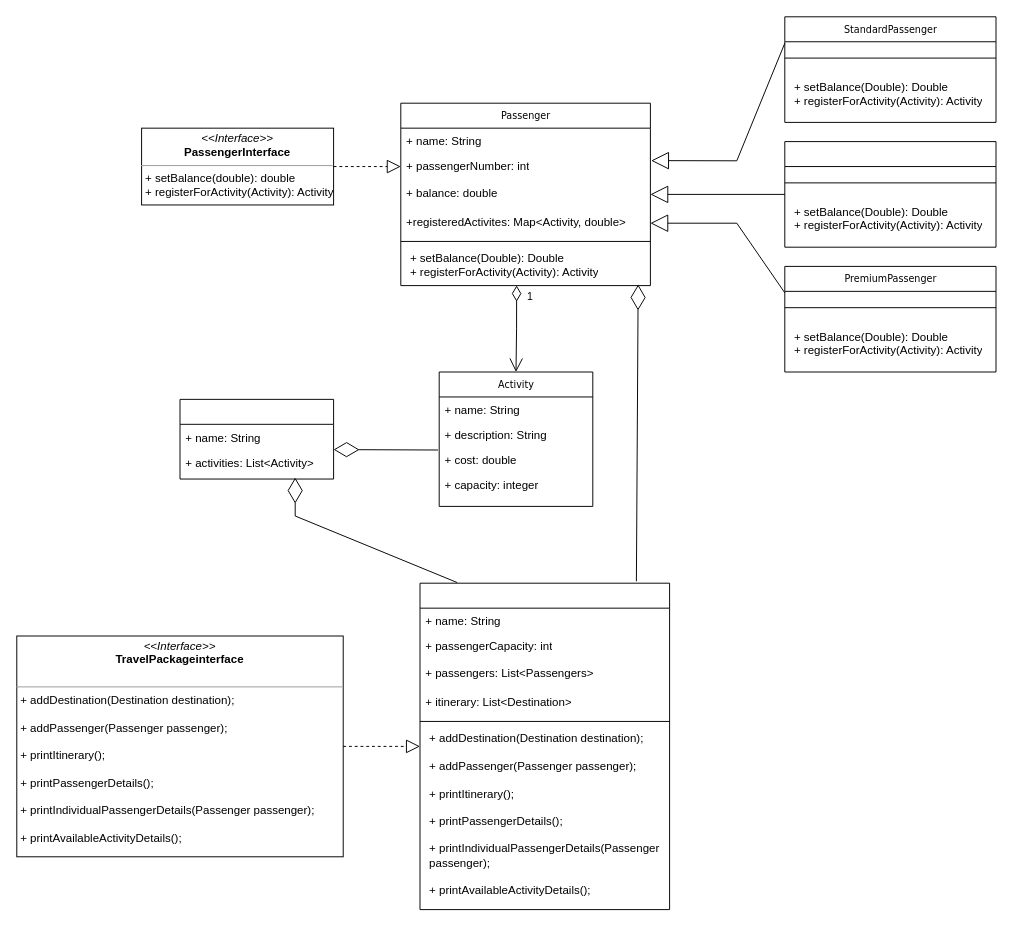
Some shapes in this 1013 by 926 pixel diagram are drawn without their labels. The box of each missing label's shape, as (x1, y1, x2, y2) in pixels:
Destination: (179, 398, 334, 479)
GoldPassenger: (784, 141, 996, 247)
TravelPackage: (419, 582, 670, 910)
